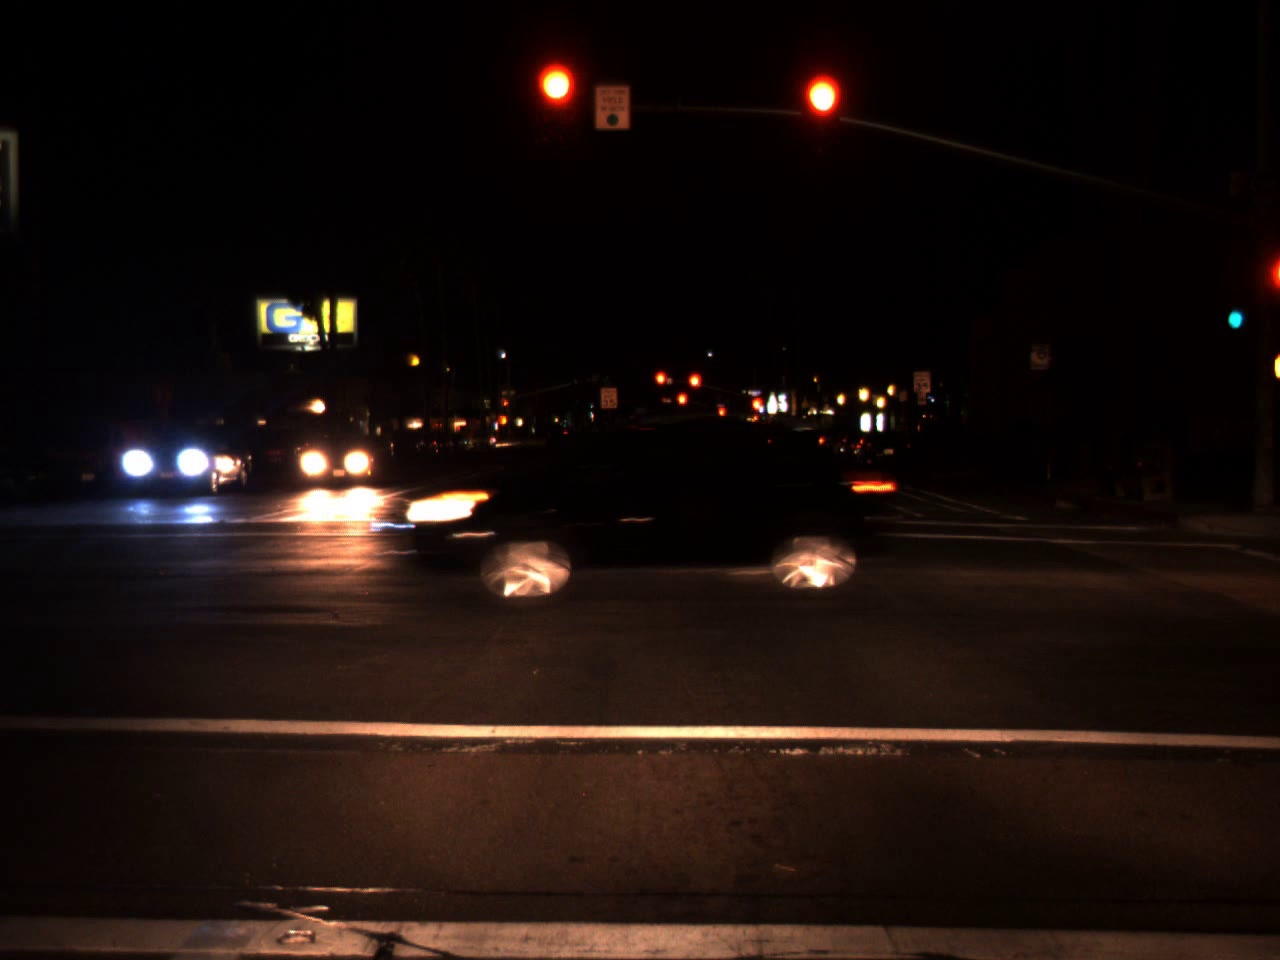stop: (537, 66, 577, 144), (801, 76, 841, 154), (686, 372, 702, 401), (653, 370, 666, 399), (675, 391, 688, 418), (750, 396, 763, 417), (717, 406, 726, 427), (502, 401, 508, 411)
